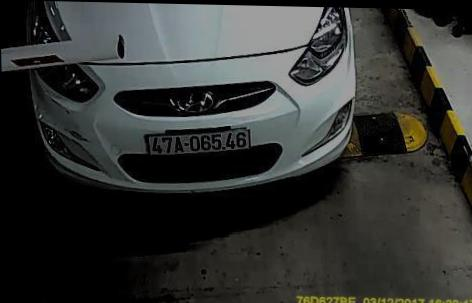License_Plate: (141, 127, 255, 159)
